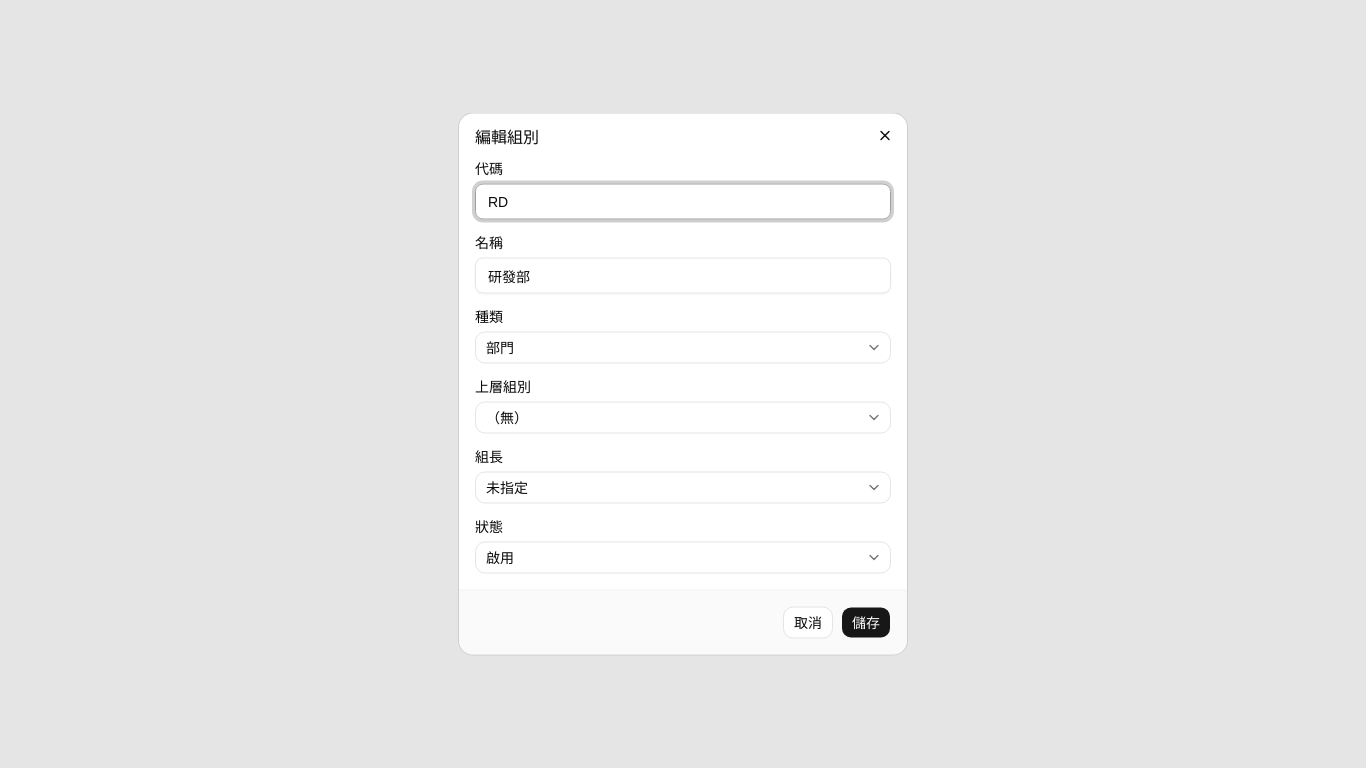
Test: GroupForm — 組長下拉（Phase B） › 有成員時：組長下拉可開啟並列出「未指定」＋各成員
Expected: the dialog is shown, [459,114,907,654]
Click the dropdown named "組長".
click(507, 488)  # box [475,472,891,504]
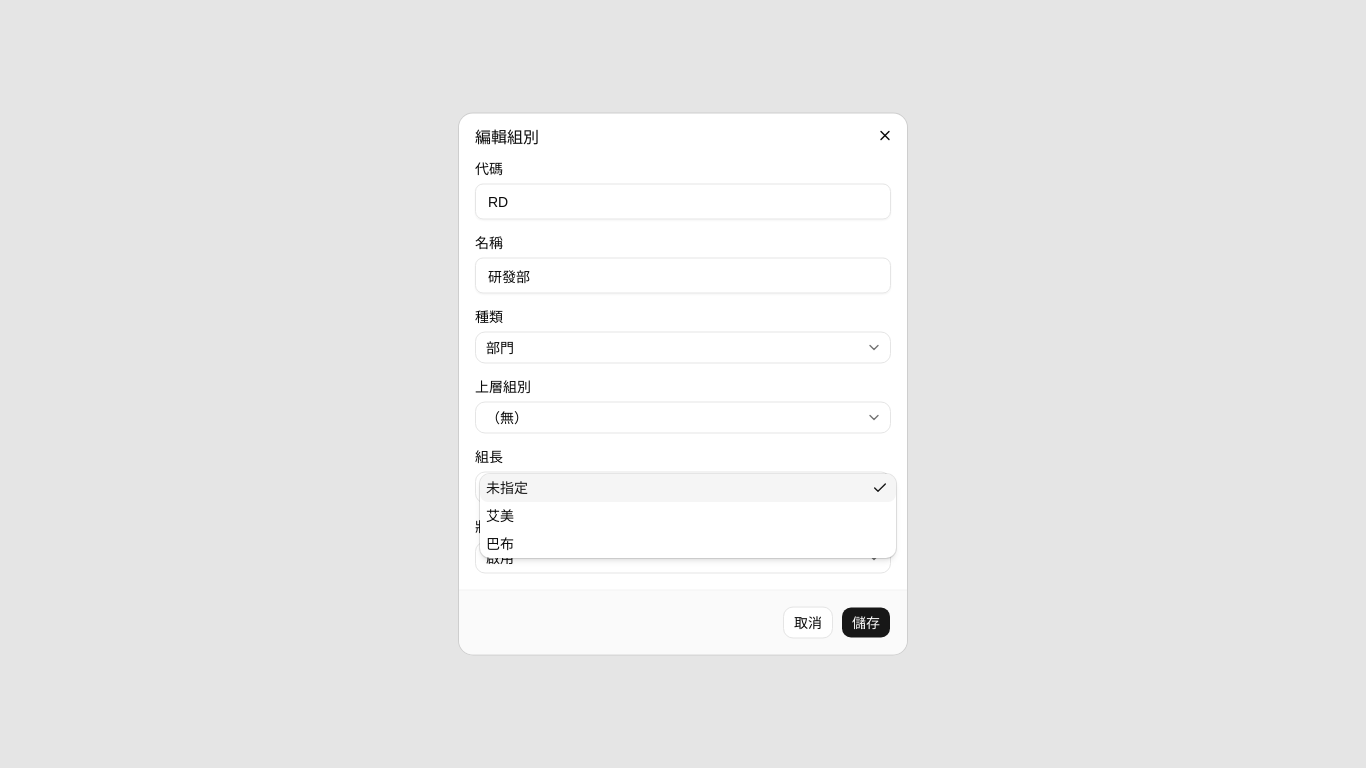
Expected: the text "未指定" below "組長" is shown, [486,480,528,496]
Result: the text "艾美" is shown at [486,508,514,524]
Result: the text "巴布" is shown at [486,536,514,552]
